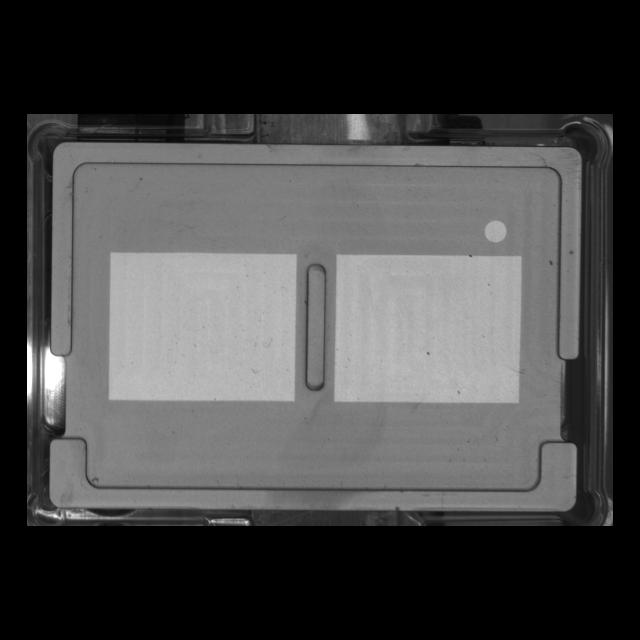door: (40, 423, 586, 521)
point: (475, 210, 517, 251)
